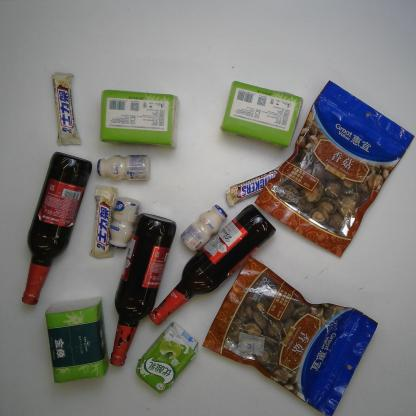Alcohol: (149, 203, 277, 326), (21, 151, 93, 306), (109, 211, 177, 368)
Chocolate: (224, 160, 283, 208), (51, 72, 83, 148), (88, 184, 119, 259)
Dried Food: (254, 80, 416, 260), (201, 255, 379, 416)
Milk: (136, 320, 200, 395), (180, 204, 228, 254), (106, 195, 141, 251), (95, 153, 152, 184)
Tissue: (219, 80, 305, 152), (44, 294, 110, 386), (98, 87, 181, 150)
